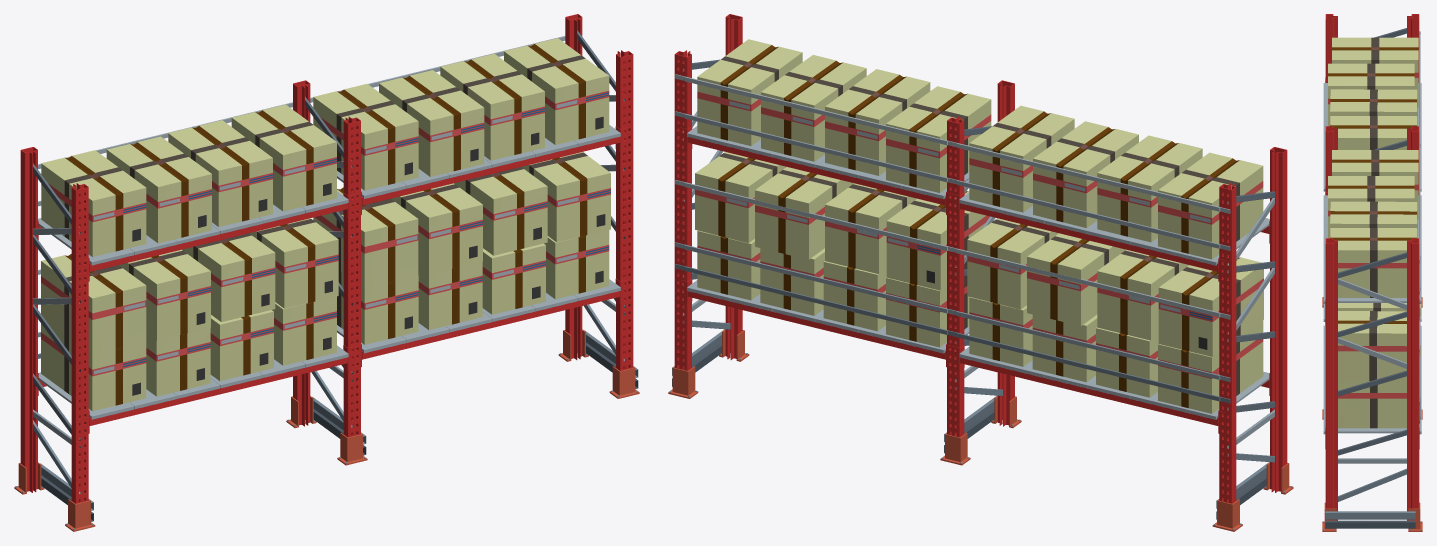
File: SM_ShelfBoxesx2_Red_D.fbx
3 views of the same model, side by side, from view 1: azimuth 30°, elevation 25°; view 2: azimuth 150°, elevation 25°; view 3: azimuth 270°, elevation 25° (orthographic). The views are drawn at different scales.
Visible parts, largest first — view 1: SM_ShelfBoxesx2_Red_D; view 2: SM_ShelfBoxesx2_Red_D; view 3: SM_ShelfBoxesx2_Red_D.
Boxes of the visible parts, x1,y1,x2,y2 form: SM_ShelfBoxesx2_Red_D: [14, 14, 639, 531]; SM_ShelfBoxesx2_Red_D: [668, 14, 1293, 531]; SM_ShelfBoxesx2_Red_D: [1322, 14, 1422, 531].
Size of the model in its own units: 647 by 370 by 118.
